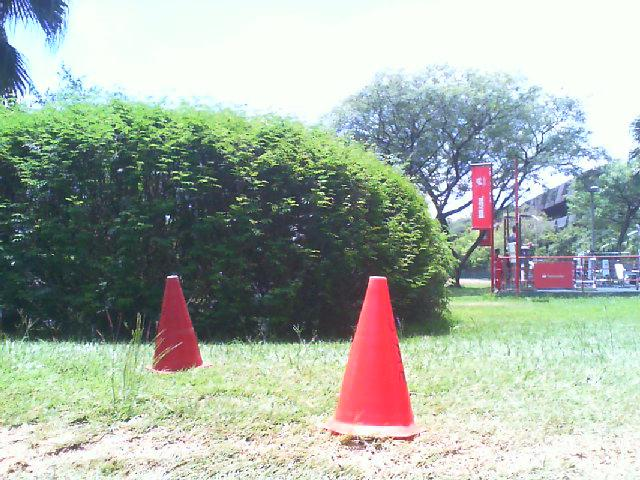0 cone: (309, 277, 428, 439), (144, 277, 212, 376)
